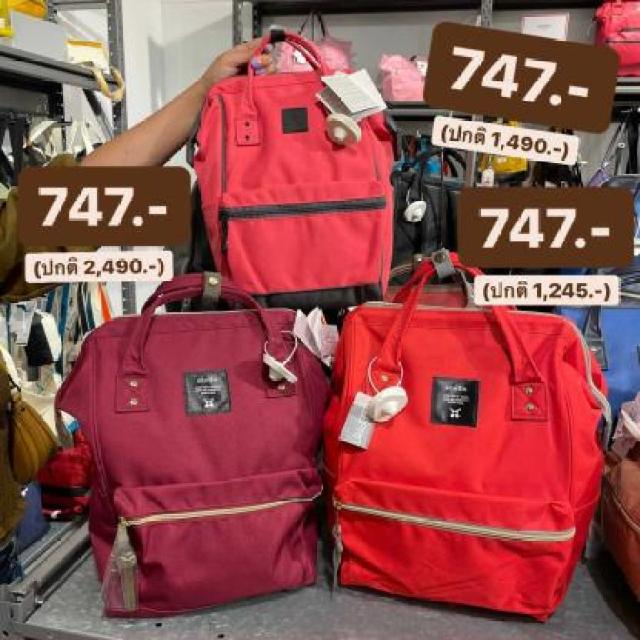Bag: (30, 265, 345, 620), (329, 253, 613, 627), (182, 12, 400, 294)
